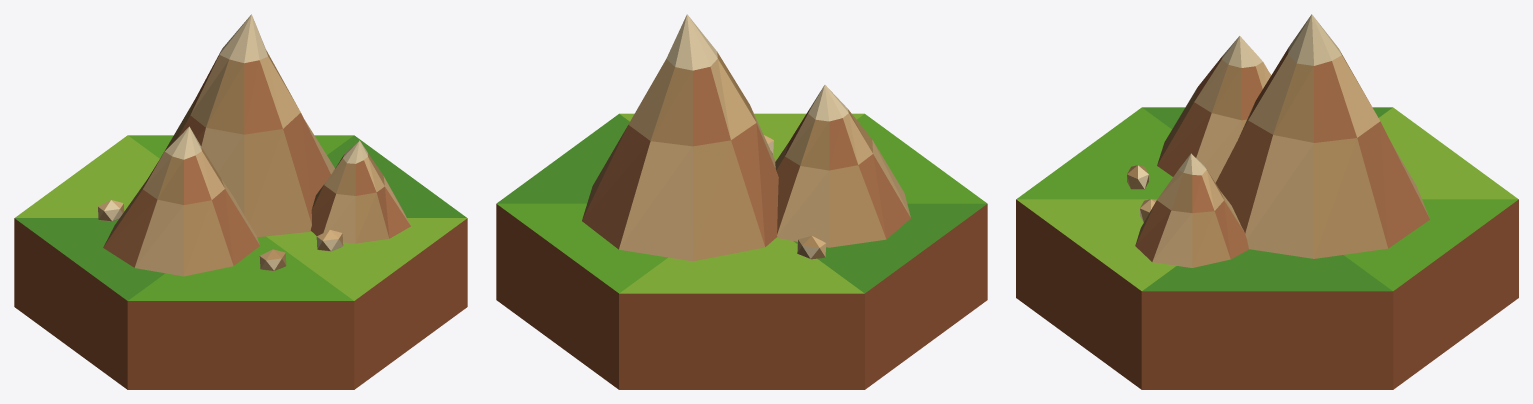
Rendered from SM_Montana_A_LOD0.fbx.
3 renders of one model, left to right at view 1: azimuth 30°, elevation 25°; view 2: azimuth 150°, elevation 25°; view 3: azimuth 270°, elevation 25°, orthographic. The views are drawn at different scales.
Parts seen in each view (by area): view 1: SM_Montana_A_LOD0; view 2: SM_Montana_A_LOD0; view 3: SM_Montana_A_LOD0.
Boxes of the visible parts, x1,y1,x2,y2 form: SM_Montana_A_LOD0: (14, 14, 467, 389); SM_Montana_A_LOD0: (496, 14, 987, 389); SM_Montana_A_LOD0: (1016, 14, 1518, 389).
Bounding box in the file's own units: 1.68 × 1.28 × 1.94.
